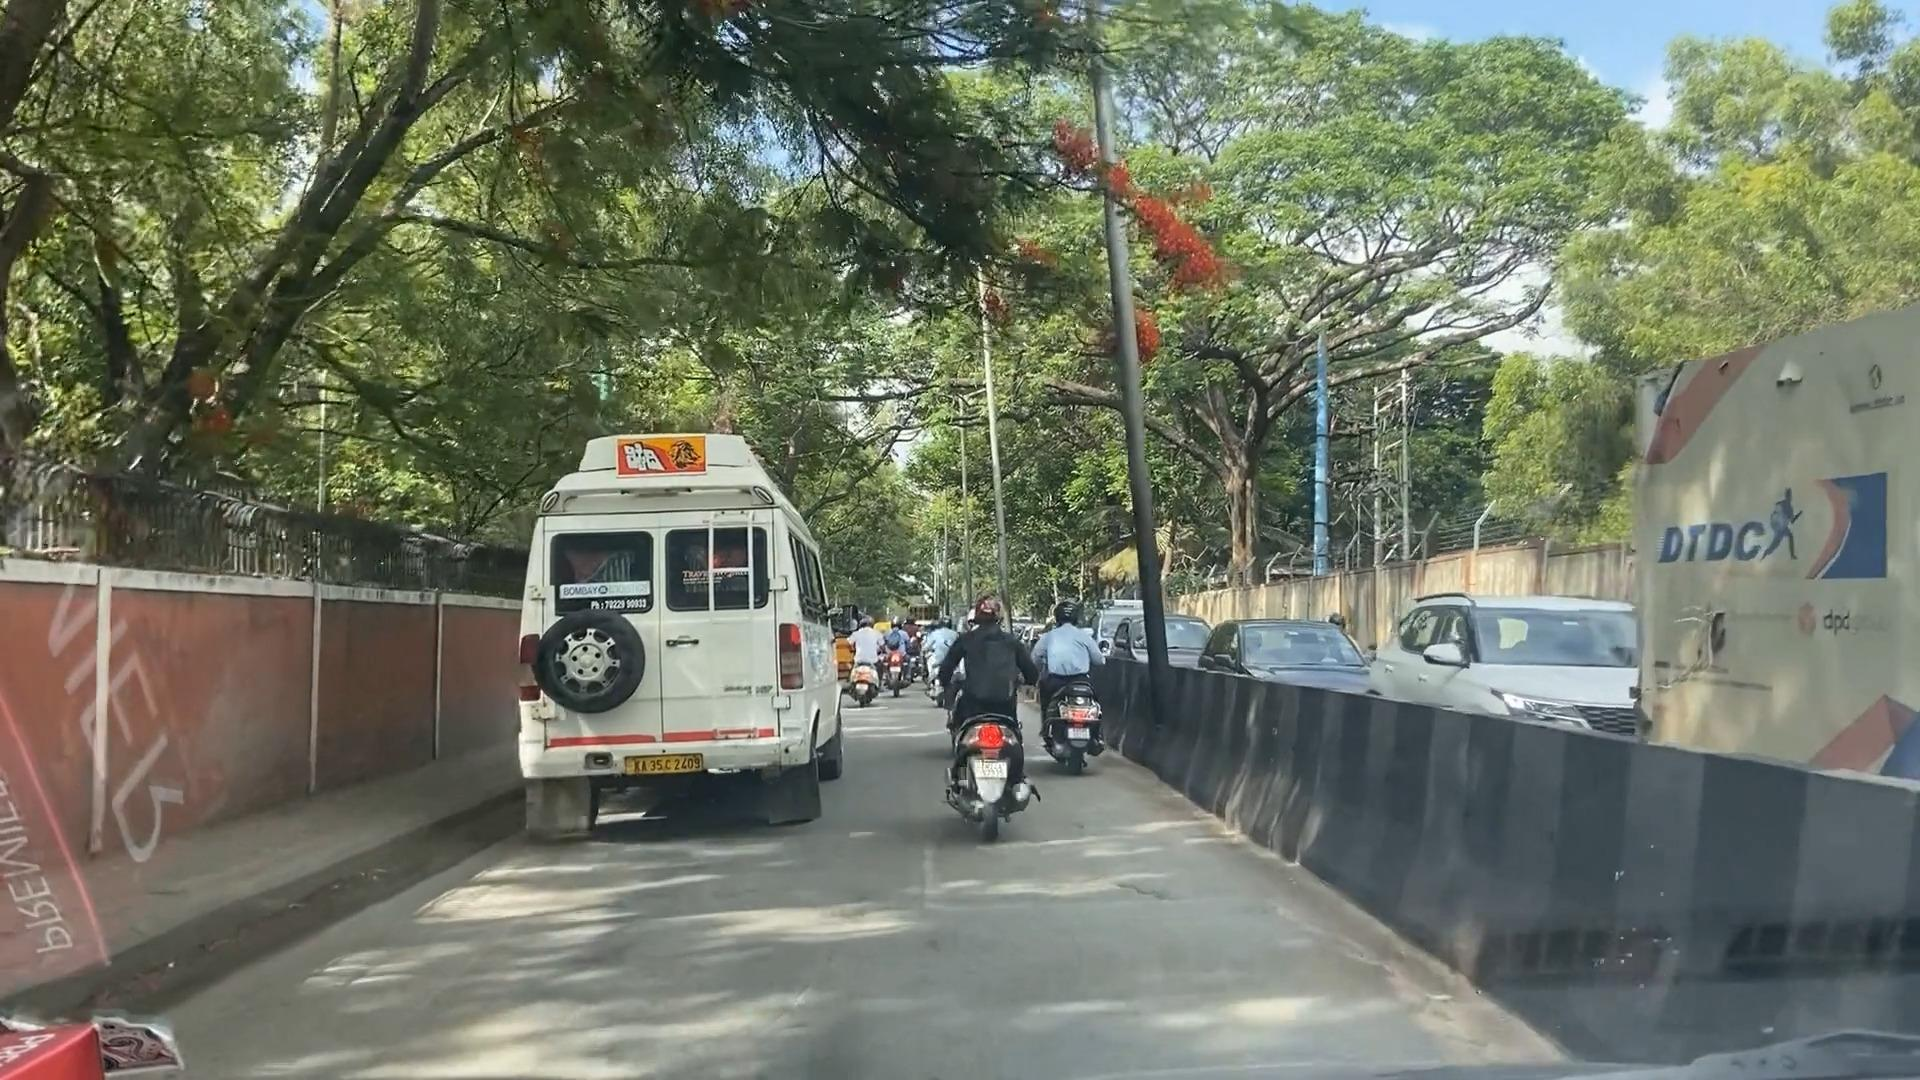HMV: (517, 380, 815, 855)
LMV: (1035, 593, 1126, 775), (960, 596, 1027, 839)
